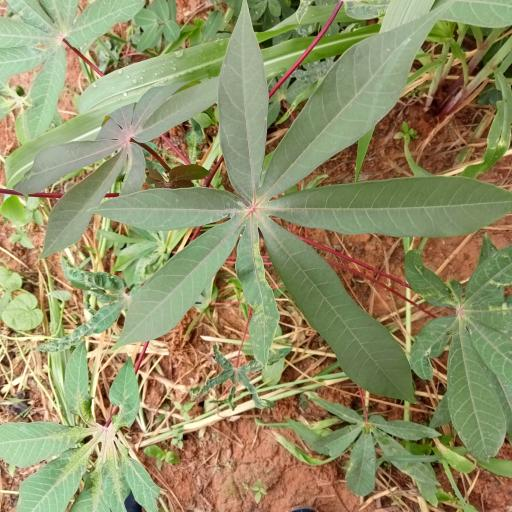Cassava_Mosaic: (122, 13, 481, 393)
